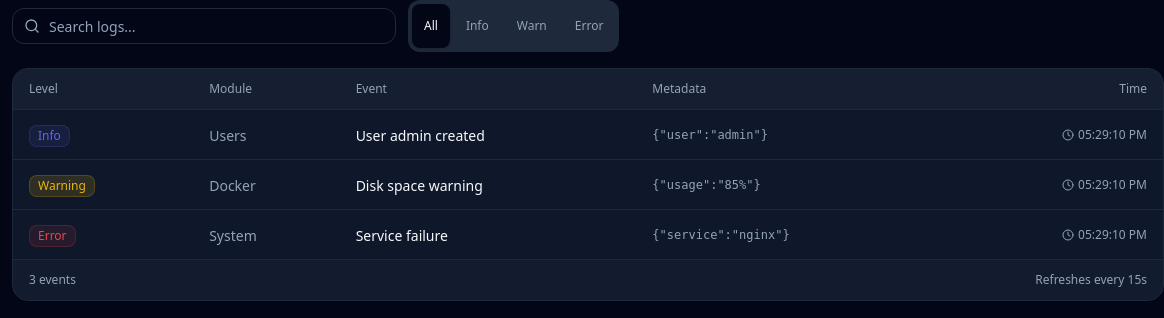
Test: LogsPage › renders "No matching logs found" when filters yield no results
This screenshot has width=1164, height=318.
Type "nonexistent" into the field labelled "Search logs" at (204, 26), box [12,8,396,44]
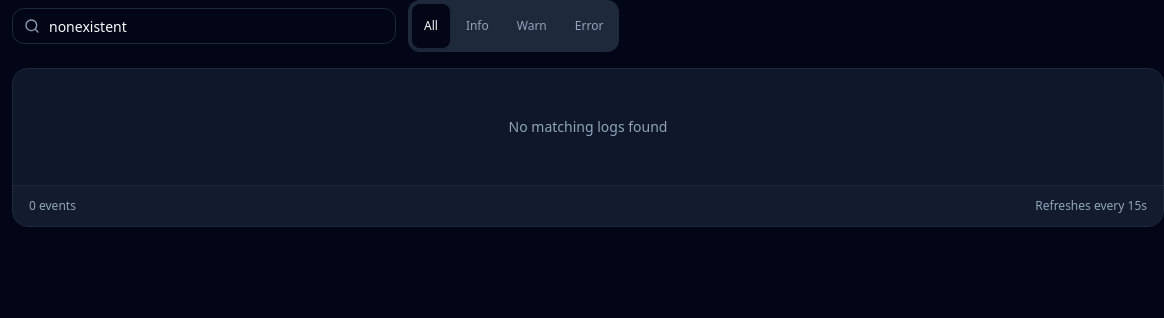
Check: the text "No matching logs found" is shown, box [509,117,668,136]
